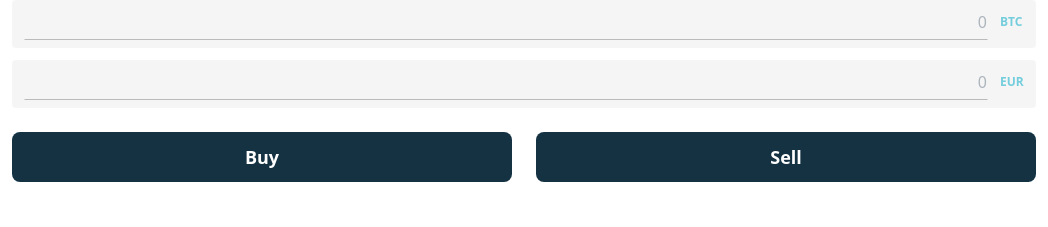
Test: CoinTradePanel › shows insufficient EUR when buy exceeds balance
Type "500" into the field with placeholder "0" next to "EUR" at (506, 82), box top-left (24, 64), bottom-right (988, 100)
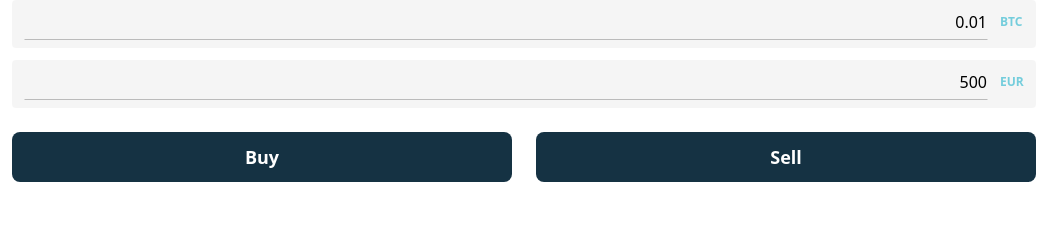
Click the button "Buy" at (262, 157), box top-left (12, 132), bottom-right (512, 182)
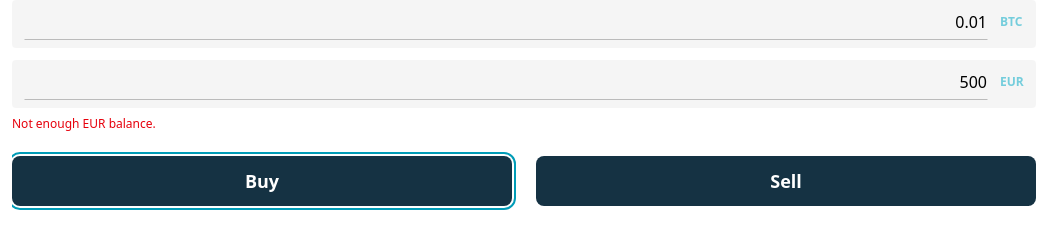
Expected: the message "Not enough EUR balance." is shown, top-left (12, 115), bottom-right (156, 132)
